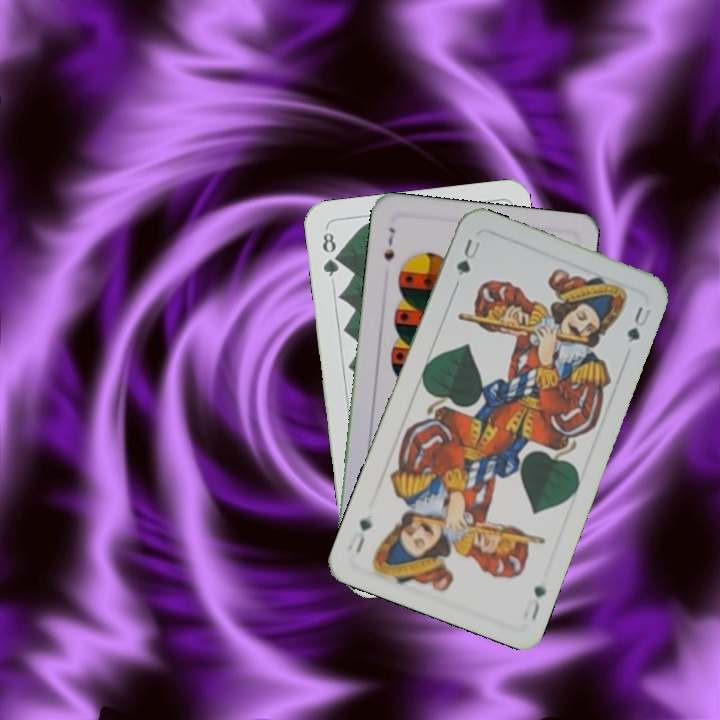G8: (318, 228, 342, 279)
GU: (452, 234, 484, 278), (527, 582, 549, 624)
S7: (379, 223, 397, 264)
